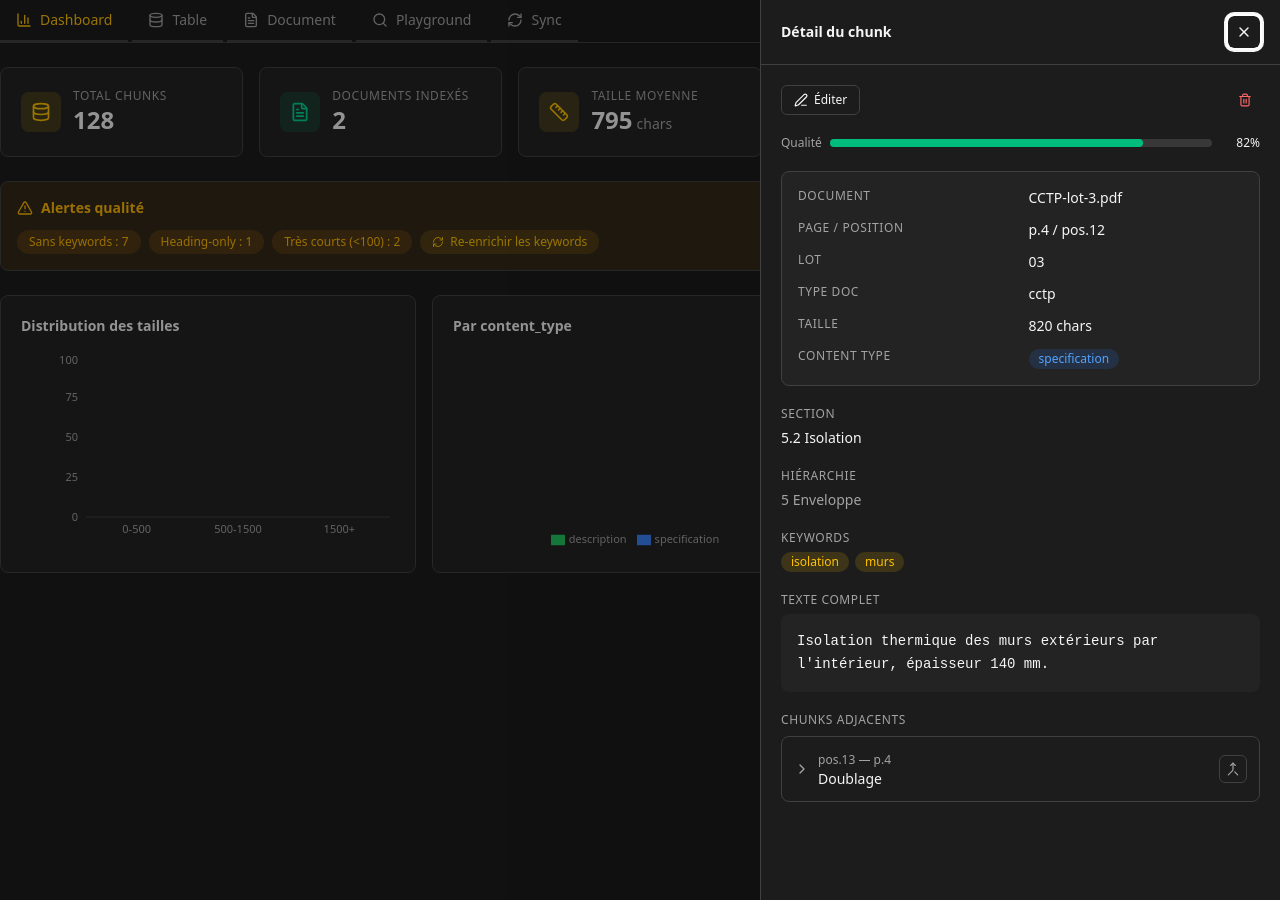
it: AdminDashboard — the side panel belongs to the chunk it shows › hands the failure back to the banner when the panel that showed it moves to another chunk
This screenshot has width=1280, height=900.
Click the button named "Supprimer le chunk" at [1245, 100], box [1230,87,1260,113]
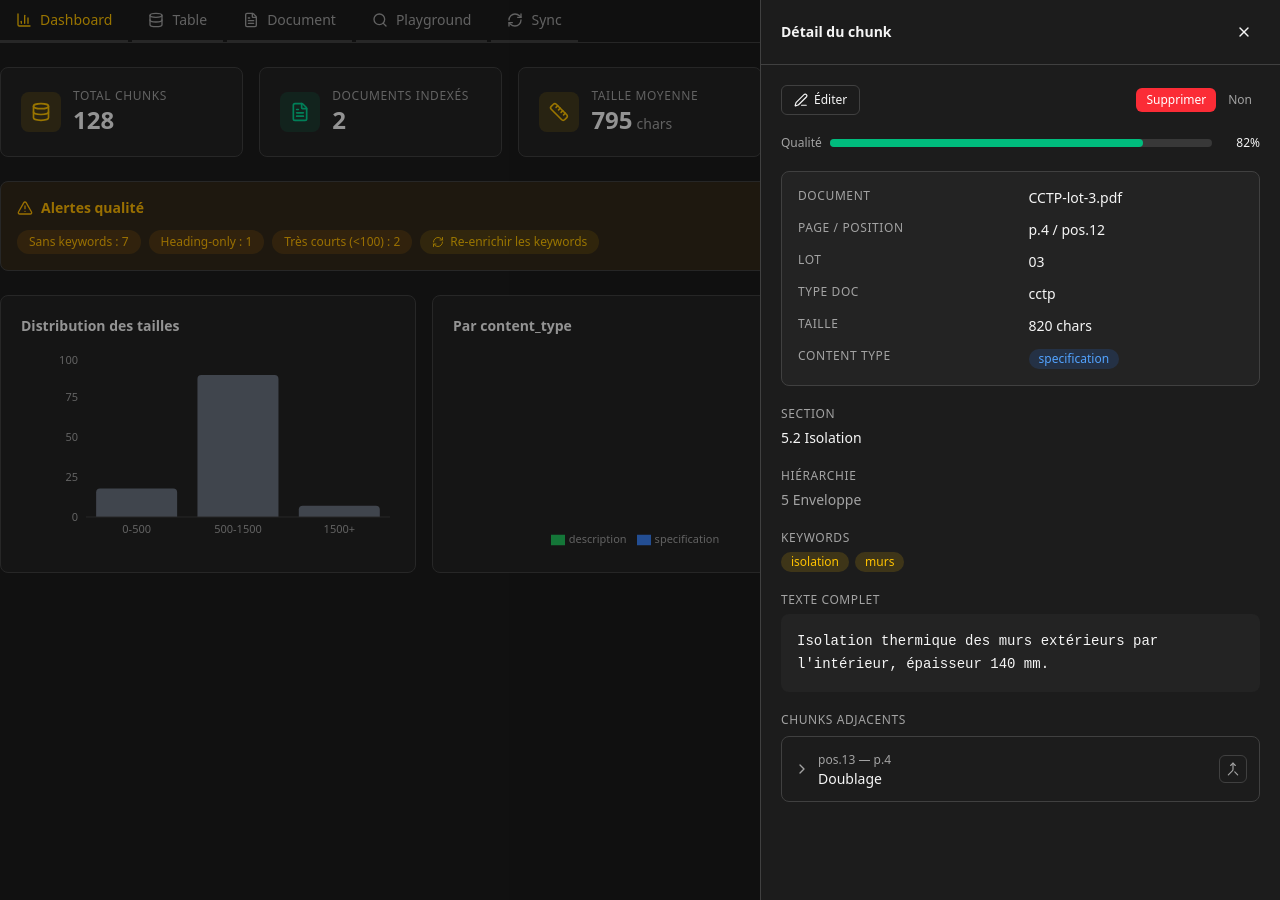
Click the button "Supprimer" at [1176, 100], box [1136,88,1216,112]
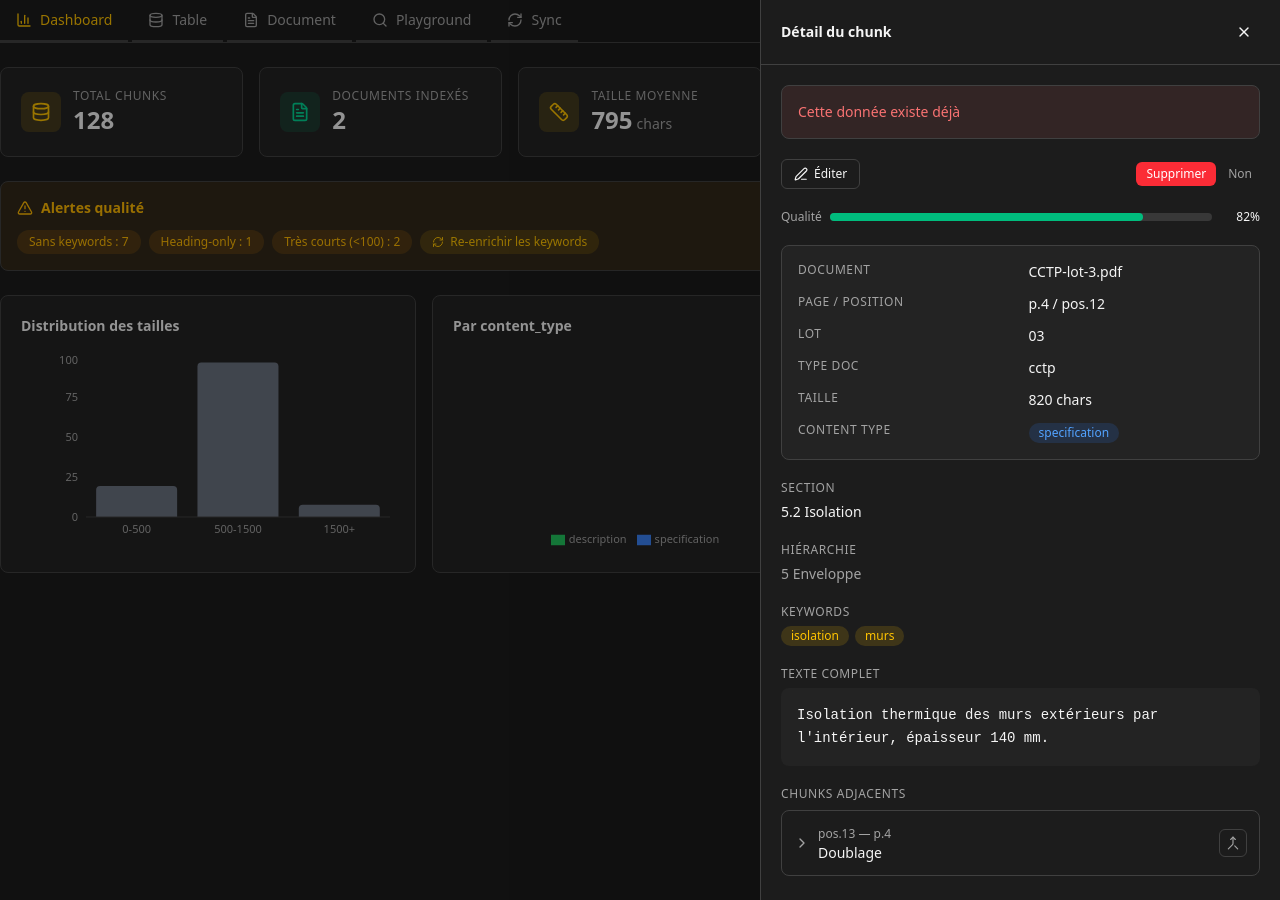
Check: the message "Cette donnée existe déjà" is shown, box [781,85,1260,139]
Click the button "pos.13 — p.4 Doublage" at [850, 852], box [794,822,1211,862]
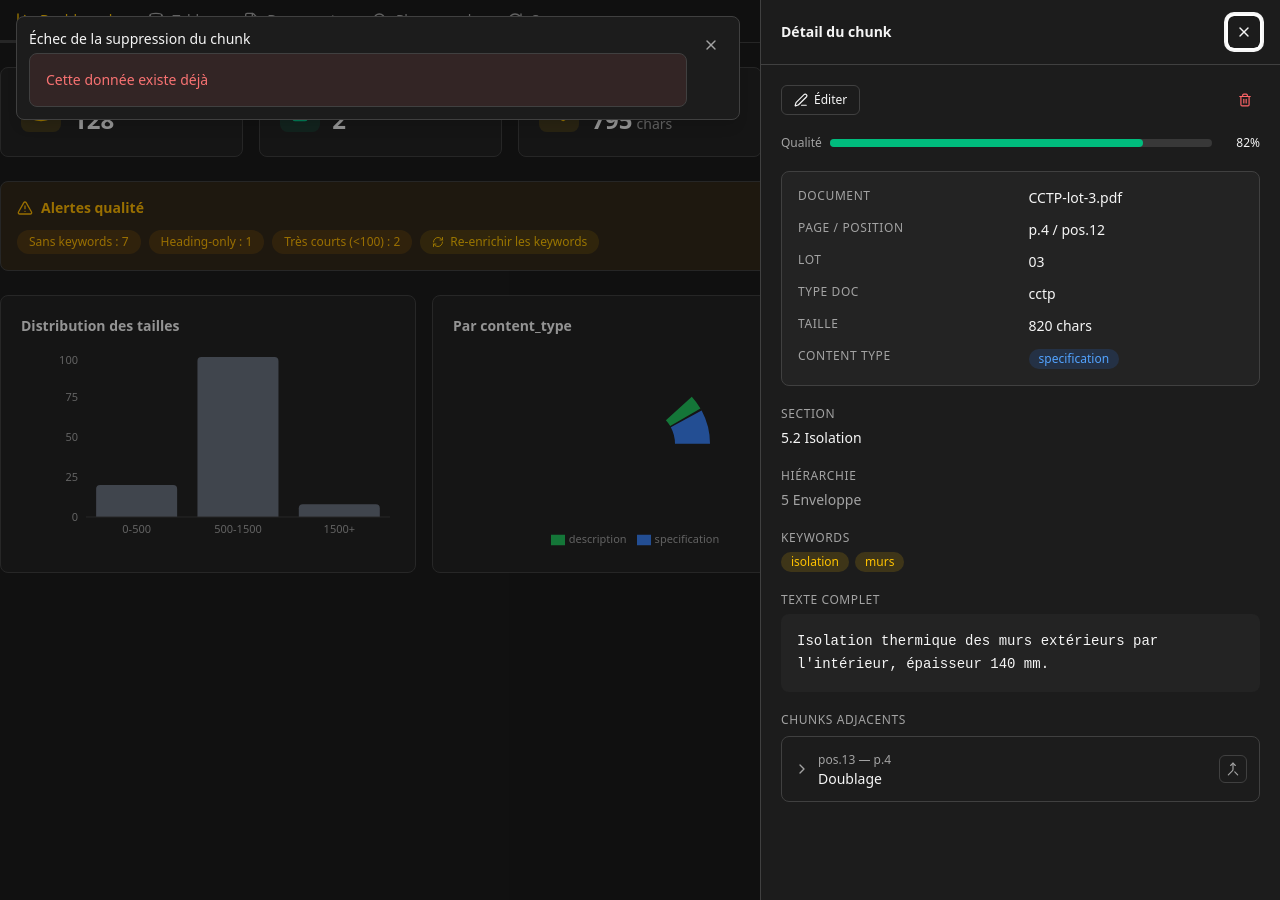
Check: the message reads "Cette donnée existe déjà", box [46,70,208,89]
Check: the button named "Masquer cette erreur" is shown, box [695,29,727,61]
